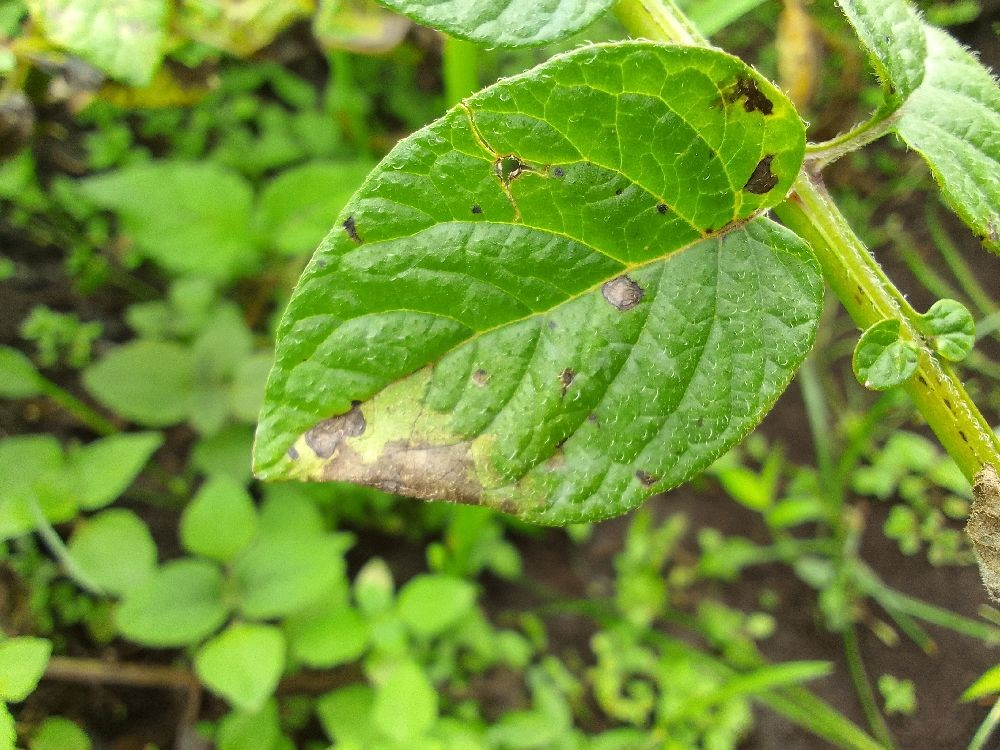late_blight: (463, 458, 999, 749), (0, 172, 201, 484), (0, 512, 259, 750), (780, 110, 1000, 344)
